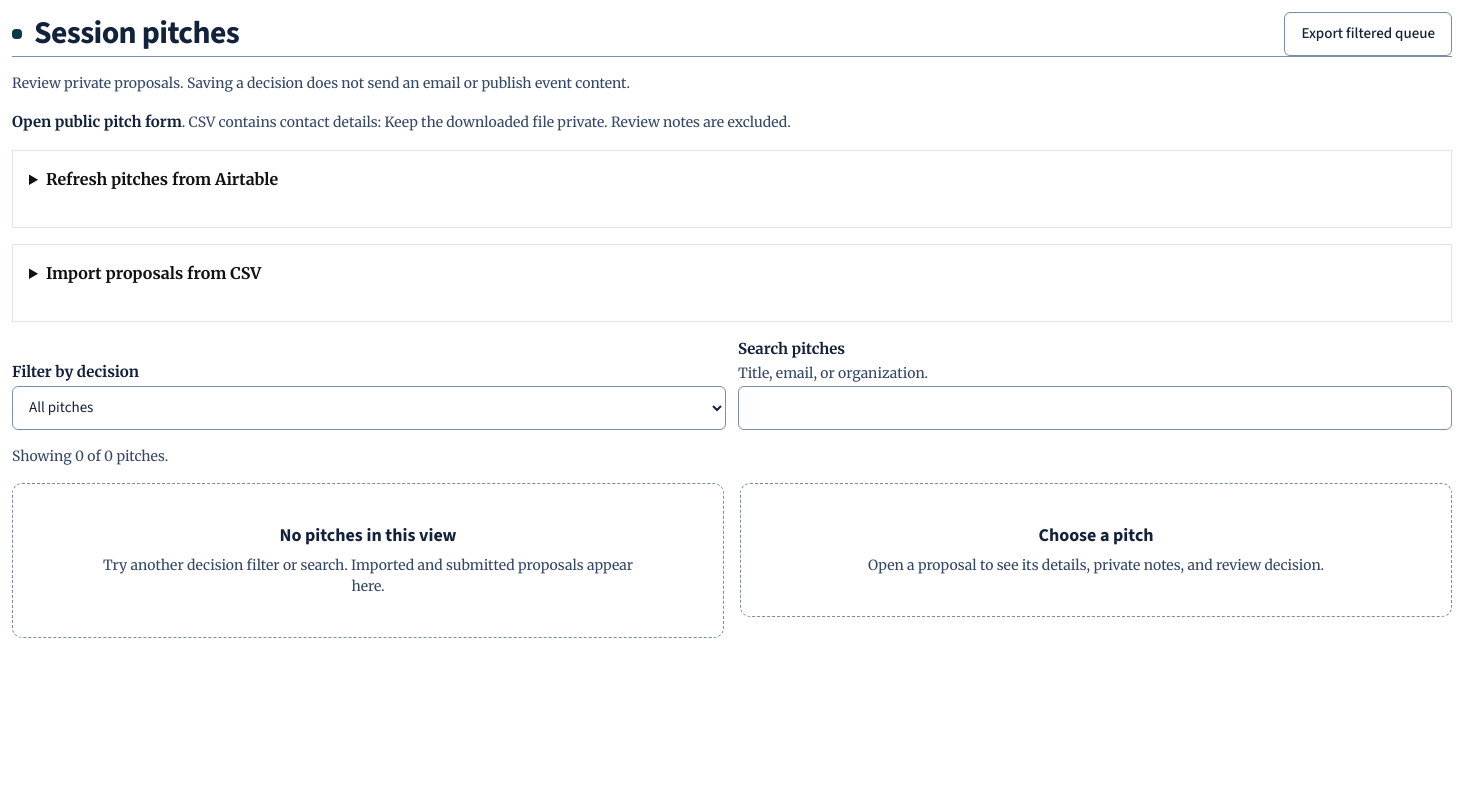
Test: Airtable refresh status and action › moves focus to the refusal when a refresh fails
What coordinates should you click on to do the following:
click the heading "Refresh pitches from Airtable"
I would click on:
 (162, 179)
Its box is 46,169 -> 278,189.
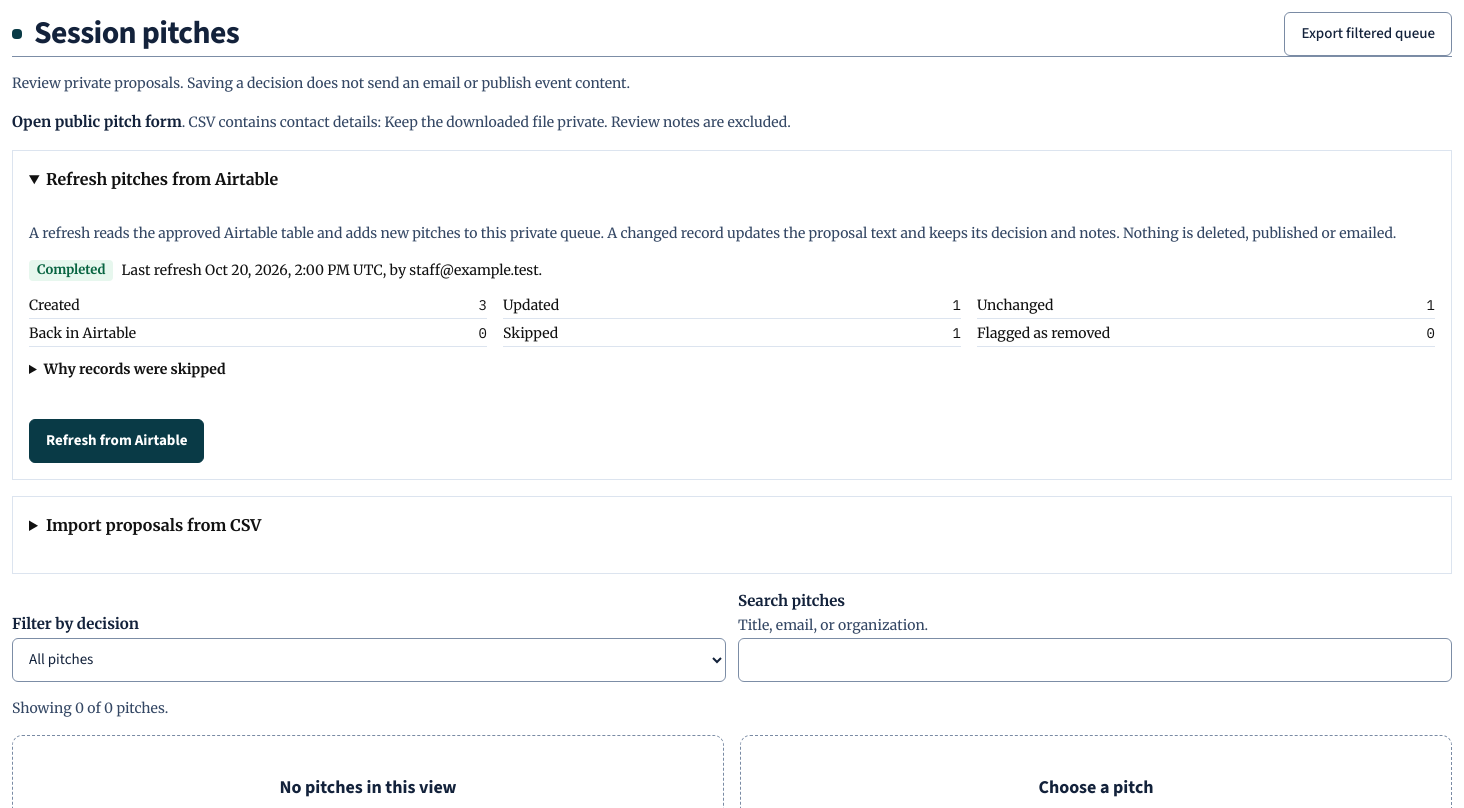
What coordinates should you click on to do the following:
click the button "Refresh from Airtable"
I would click on:
 (117, 441)
Its box is 29,419 -> 204,463.
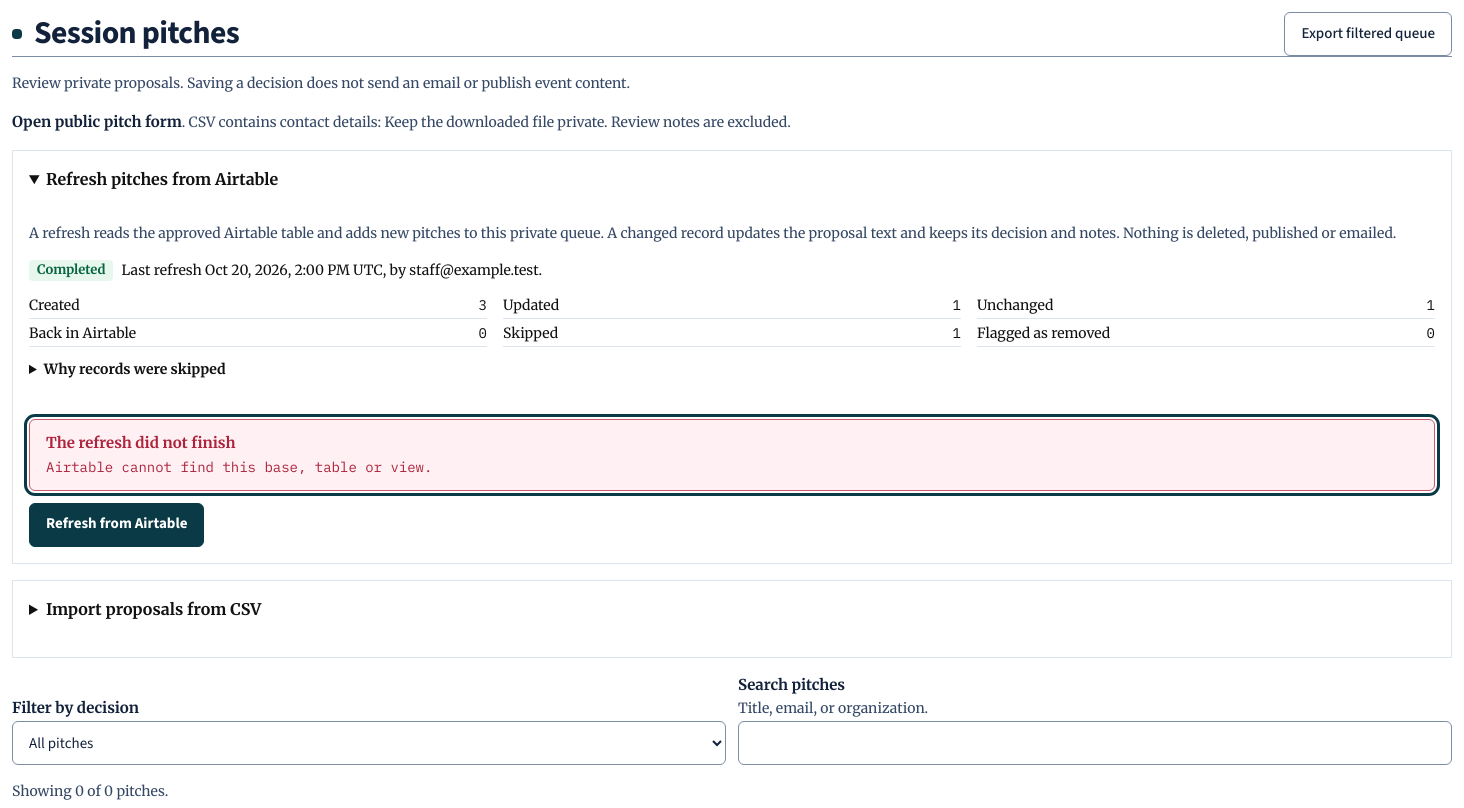
Now the message "The refresh did not finish Airtable cannot find this base, table or view." is shown, box 29,419 -> 1435,490
